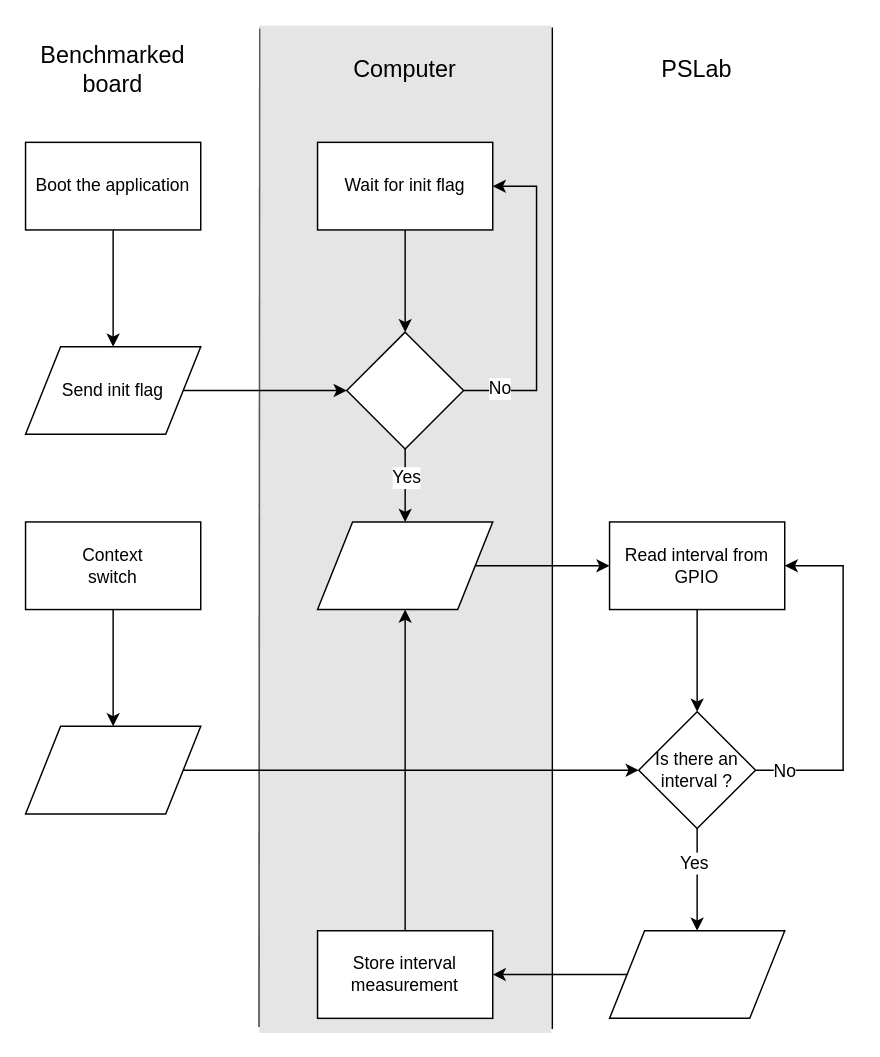
Some shapes in this 880 by 1057 pixel diagram are drawn without their labels. Each missing label, with the centre of its shape:
"Change GPIO status" belongs at point (112, 769).
"Read init flag ?" belongs at point (404, 390).
"Send interval measurement" belongs at point (696, 973).
"Send PSLab instruction to measure interval" belongs at point (404, 565).
